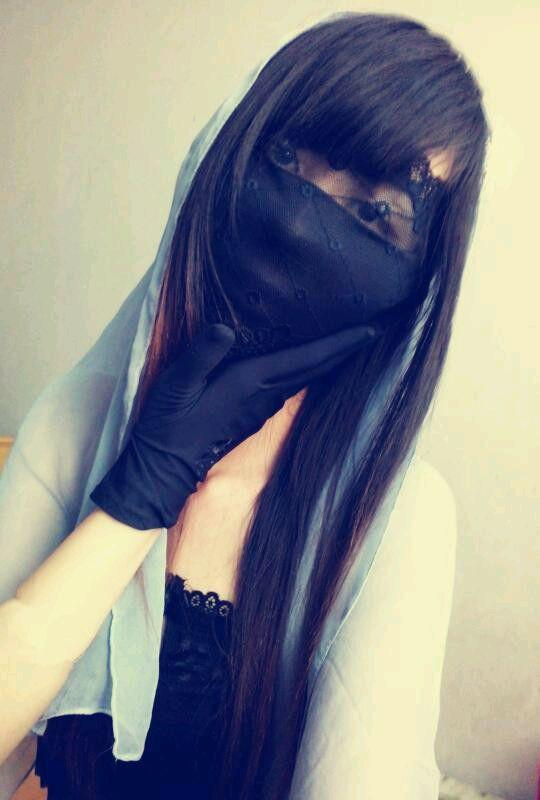OK: (205, 111, 437, 347)
